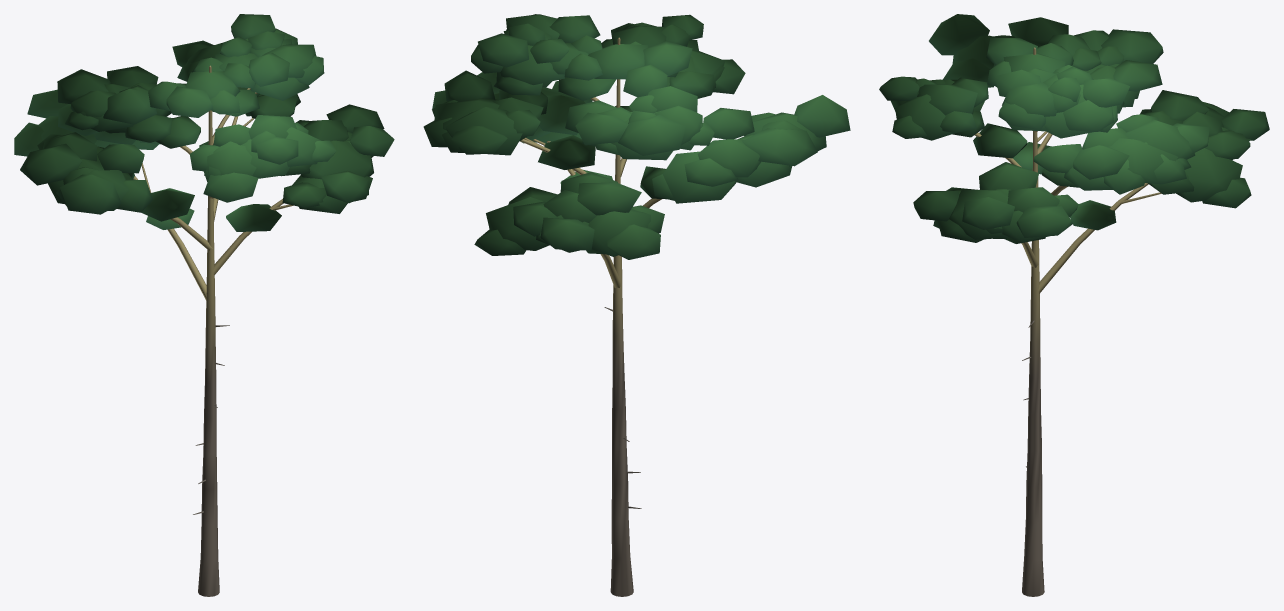
Rendered from pine_old.glb.
The picture shows the model from 3 angles, left to right: view 1: azimuth 30°, elevation 25°; view 2: azimuth 150°, elevation 25°; view 3: azimuth 270°, elevation 25°; orthographic projection. The views are drawn at different scales.
Visible parts, largest first — view 1: pine_old; view 2: pine_old; view 3: pine_old.
Part boxes in pixels (x1,y1,x2,y2): pine_old: (14, 14, 394, 596); pine_old: (423, 14, 850, 596); pine_old: (879, 14, 1269, 596).
Bounding box in the file's own units: 15.57 × 22.53 × 14.45.
